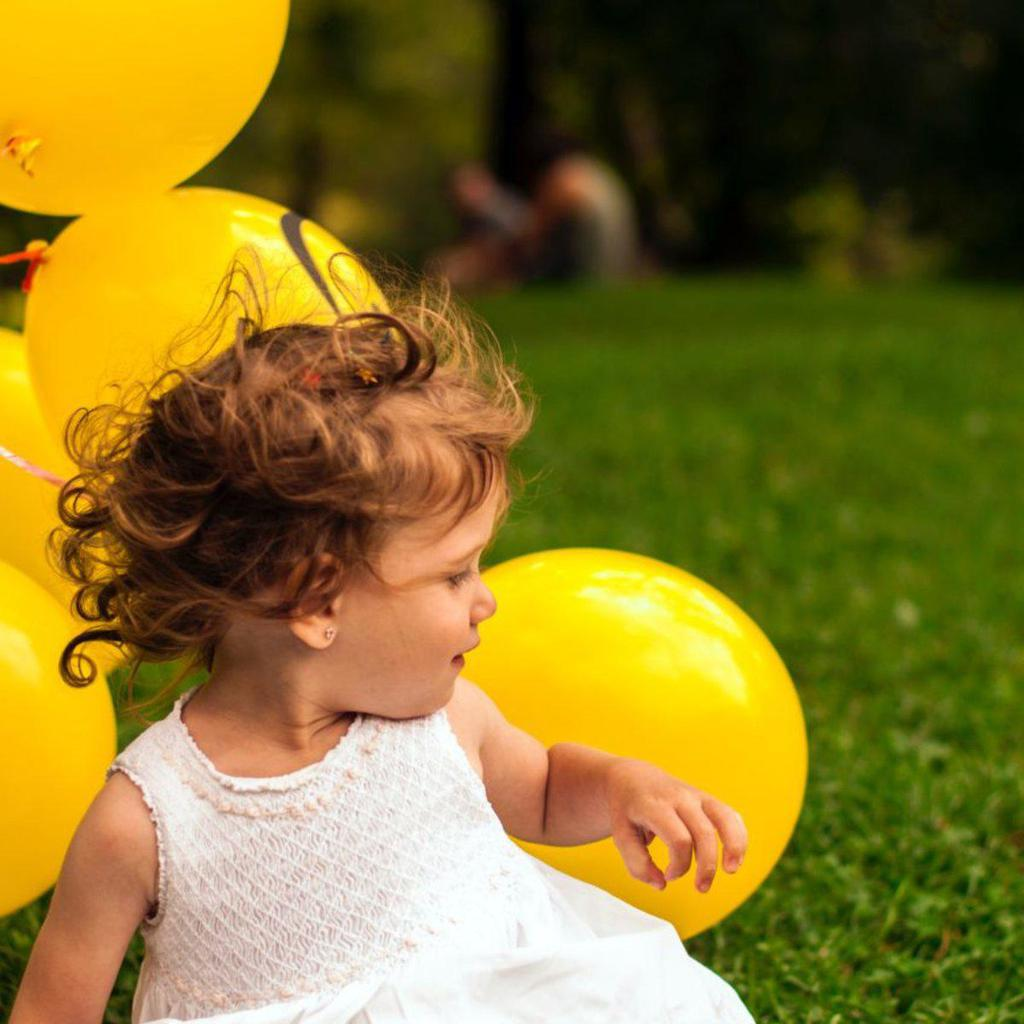child: (33, 295, 847, 1024)
